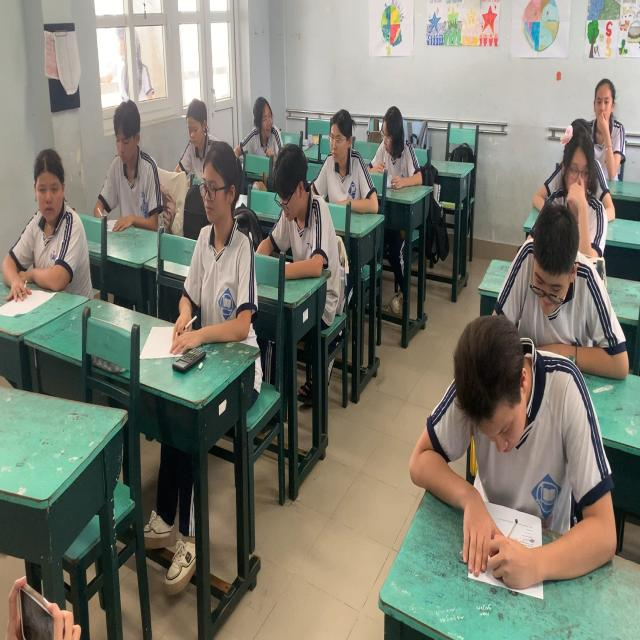not_cheating: (404, 326, 613, 579), (189, 136, 264, 319), (20, 146, 90, 308), (522, 201, 595, 326), (108, 102, 160, 250), (267, 136, 321, 264), (317, 112, 377, 208), (372, 104, 416, 190), (554, 132, 603, 202), (174, 87, 212, 170), (580, 77, 618, 132), (243, 91, 276, 153)
